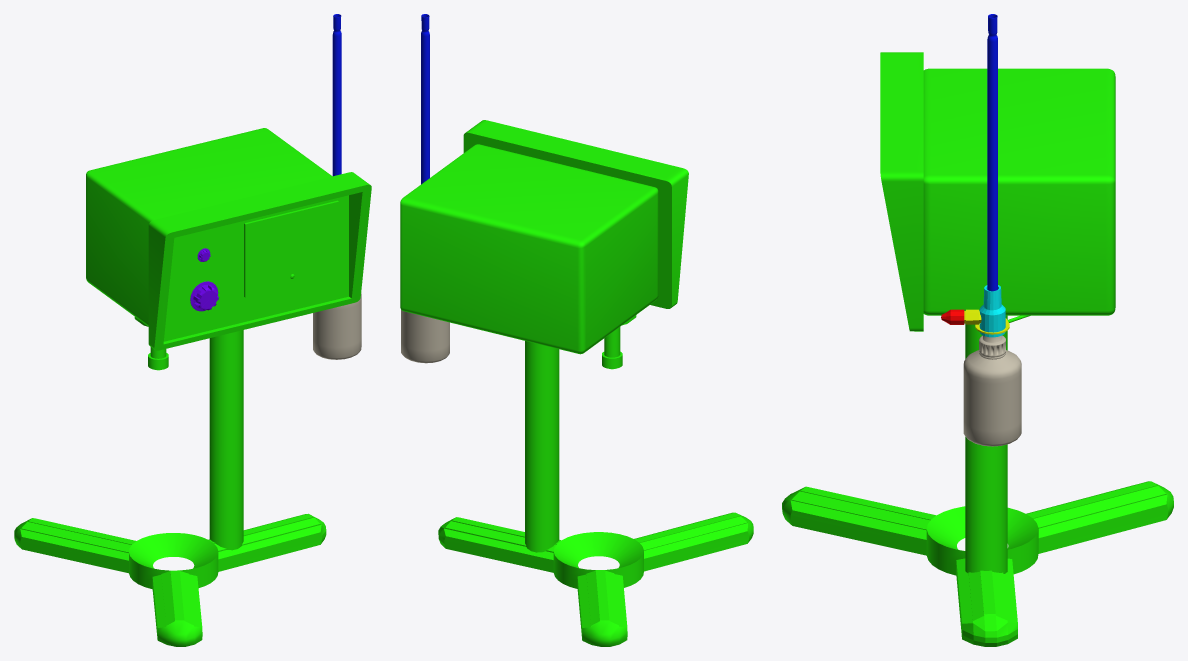
The model's file is TitratorFullv3.FBX.
3 renders of one model, left to right at view 1: azimuth 30°, elevation 25°; view 2: azimuth 150°, elevation 25°; view 3: azimuth 270°, elevation 25°, orthographic. The views are drawn at different scales.
Visible parts, largest first — view 1: WallaceStandCorrectUV, Bottle, Pipet, knobs; view 2: WallaceStandCorrectUV, Bottle, Pipet; view 3: WallaceStandCorrectUV, Bottle, Pipet, Tip, Knob.
Part boxes in pixels (box(x1,y1,x2,y2)): WallaceStandCorrectUV: box(14, 128, 371, 646); Bottle: box(313, 293, 361, 359); Pipet: box(332, 14, 341, 176); knobs: box(190, 281, 218, 311); WallaceStandCorrectUV: box(400, 120, 753, 646); Bottle: box(401, 310, 449, 363); Pipet: box(421, 14, 429, 184); WallaceStandCorrectUV: box(782, 52, 1173, 646); Bottle: box(963, 350, 1021, 446); Pipet: box(987, 14, 997, 291); Tip: box(979, 285, 1005, 337); Knob: box(941, 309, 981, 324).
Bounding box in the file's own units: 0.6702 × 1.17 × 0.6506.
Materials: 8 (2 with a texture image).
